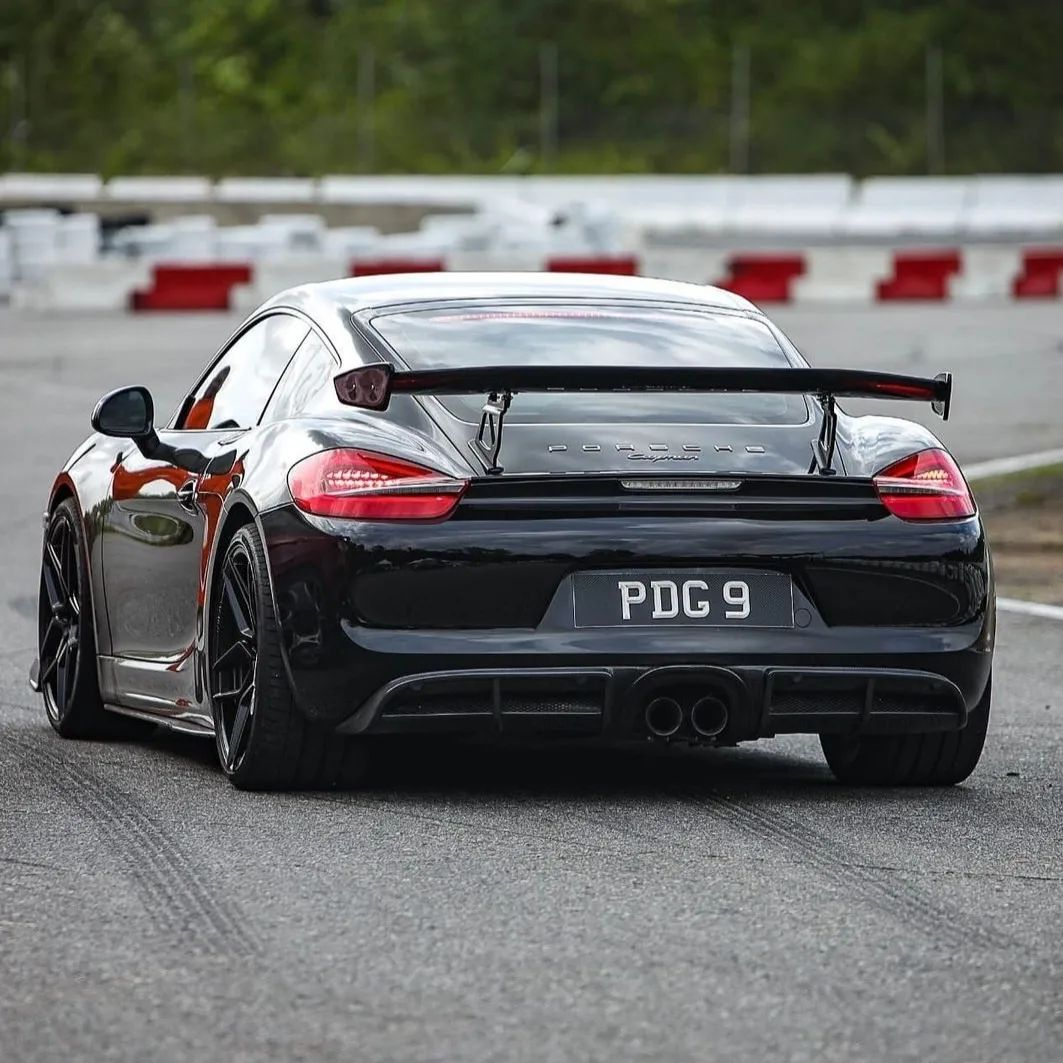License-Plate: (575, 576, 790, 627)
